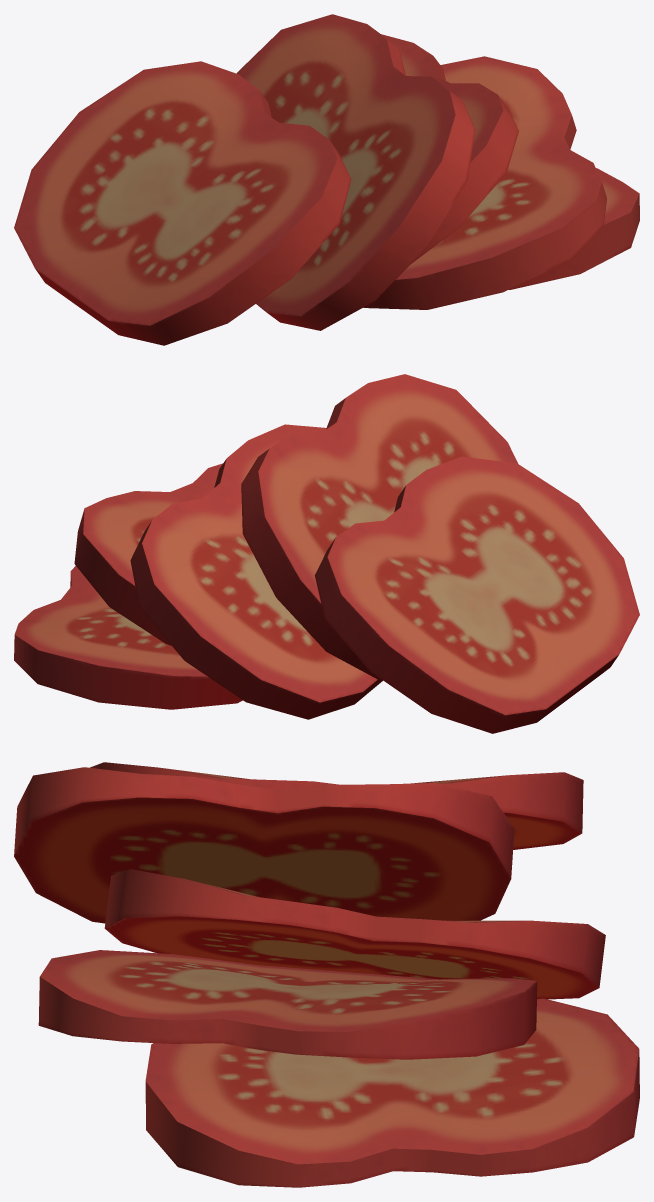
Rendered from TomatoSlices.fbx.
The picture shows the model from 3 angles, top to bottom: view 1: azimuth 30°, elevation 25°; view 2: azimuth 150°, elevation 25°; view 3: azimuth 270°, elevation 25°; orthographic projection. The views are drawn at different scales.
Visible parts, largest first — view 1: Tomato.Slices; view 2: Tomato.Slices; view 3: Tomato.Slices.
Boxes of the visible parts, box(x1,y1,x2,y2) form: Tomato.Slices: box(14, 14, 639, 345); Tomato.Slices: box(14, 374, 639, 733); Tomato.Slices: box(14, 762, 639, 1187).
Bounding box in the file's own units: 44.89 × 17.92 × 35.64.
